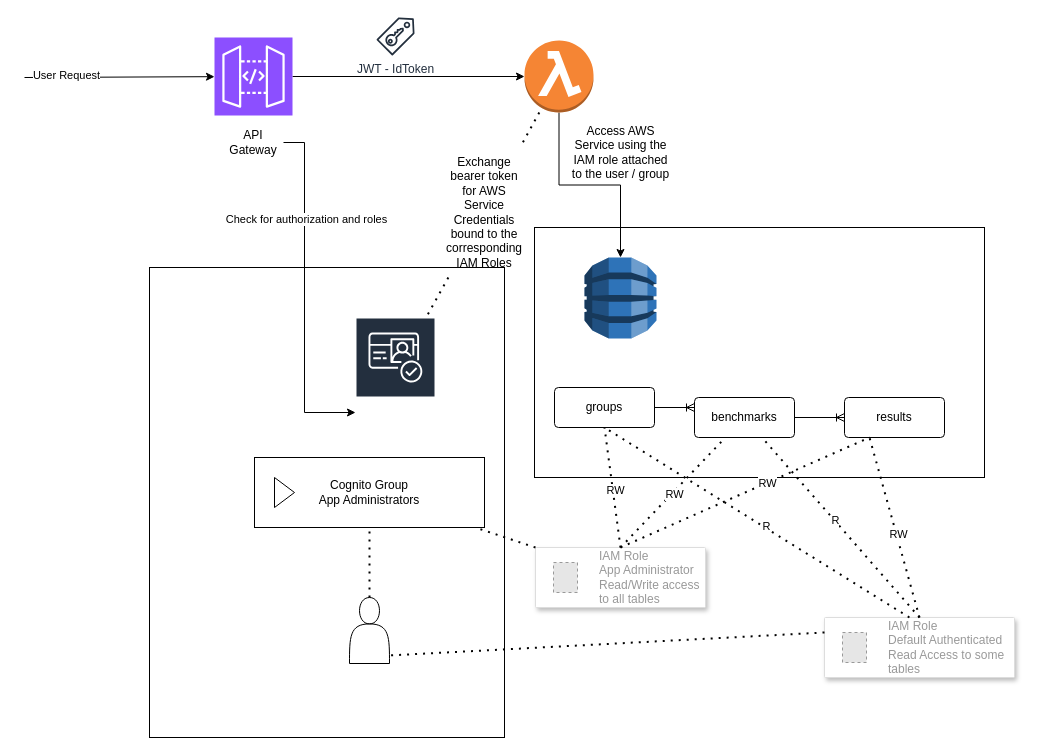
The diagram is 1038 pixels wide and 755 high, and some of its shapes have lost their labels. Grey dashed boxes stand in for pictures. The shapes that lost their labels are listed below. From the top down, each one's centre as x and y in pixels, then its label:
point (620, 297): Dynamo DB
point (395, 372): Amazon Cognito
point (369, 630): Cognito Users Pool
